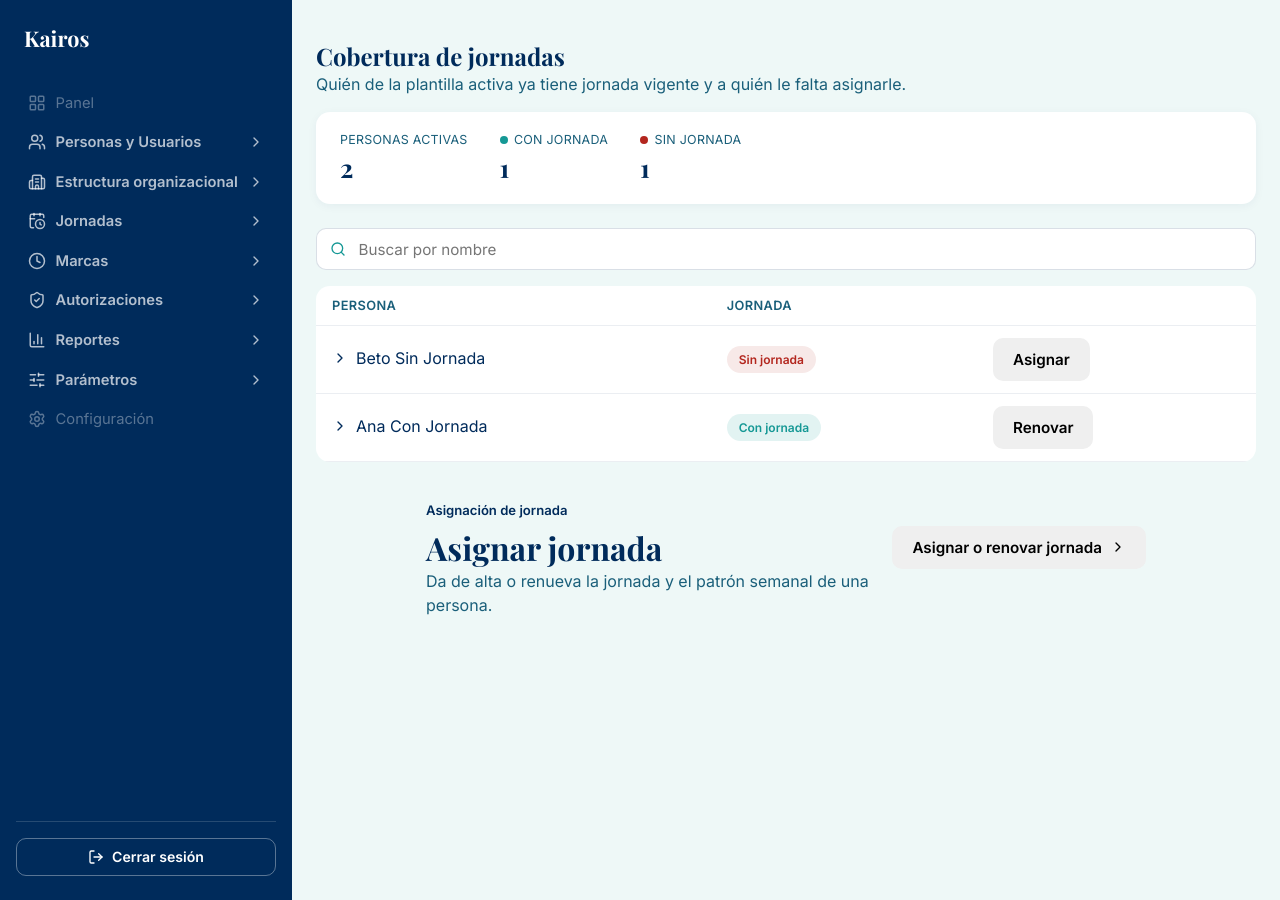
Scenario: AsignarJornadaPage › muestra la cobertura de jornadas (con/sin jornada) y permite preseleccionar desde ahí
Expected: the text "Con jornada" is shown, left=727, top=414, right=821, bottom=441
Expected: the text "Sin jornada" is shown, left=727, top=346, right=816, bottom=373
Click the button "Asignar": {"x": 1041, "y": 360} left=993, top=338, right=1090, bottom=381
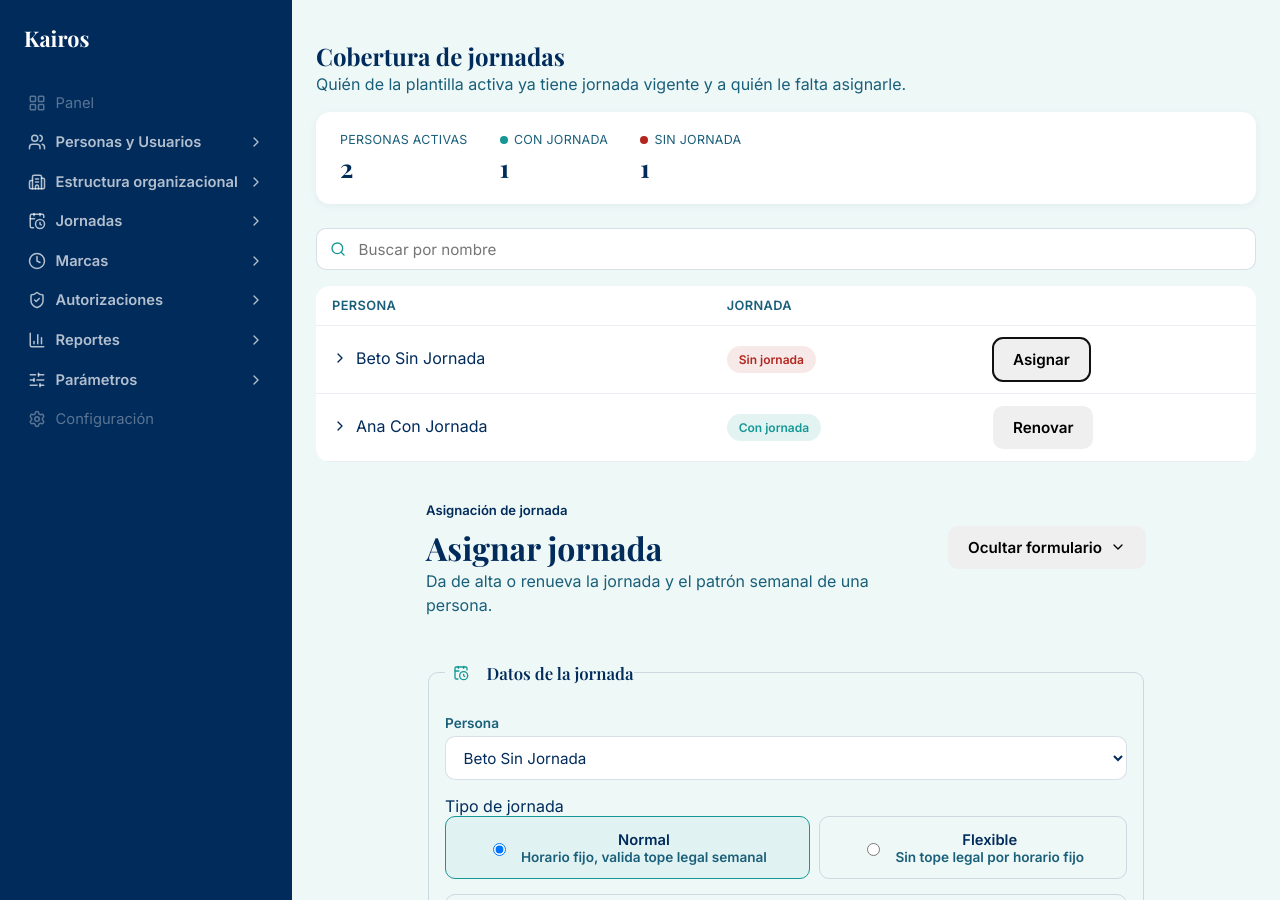
Now the dropdown labelled "Persona" shows "Beto Sin Jornada", box left=445, top=736, right=1127, bottom=780
